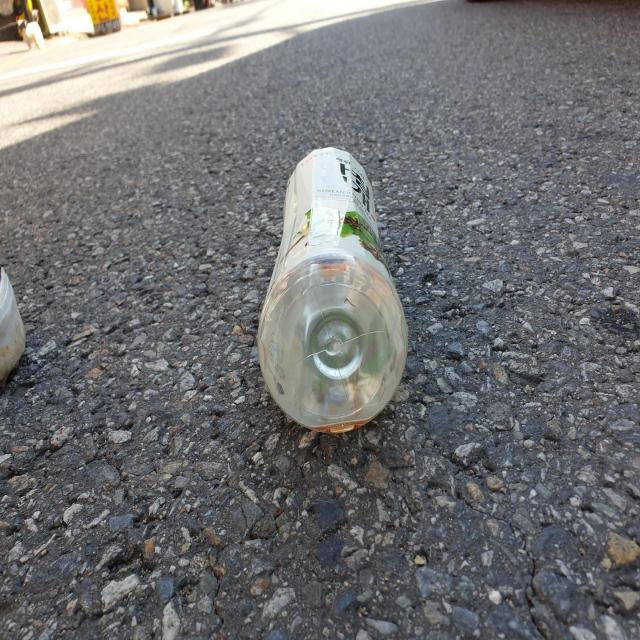plastic: (257, 147, 408, 433)
